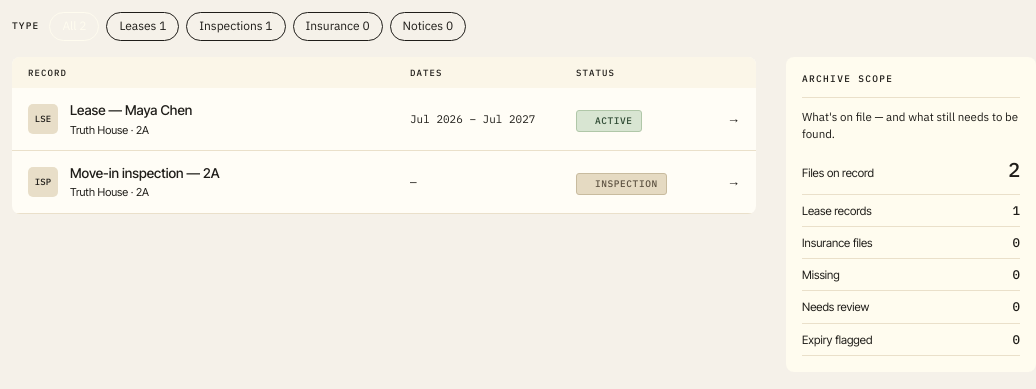
it: DocumentsFilterList states › renders populated rows and filters them by type
Check: the text "Lease — Maya Chen" is shown, box [70,100,192,121]
Check: the text "Move-in inspection — 2A" is shown, box [70,163,220,183]
Click the button with test id "filter-btn-inspections" at (236, 26), box [186,12,286,41]
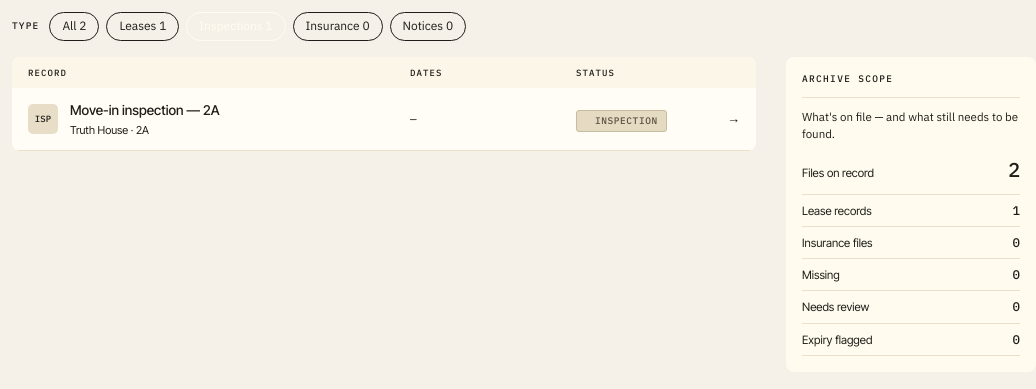
Check: the text "Move-in inspection — 2A" is shown, box [70,100,220,121]
Check: the text "Lease — Maya Chen" is gone
